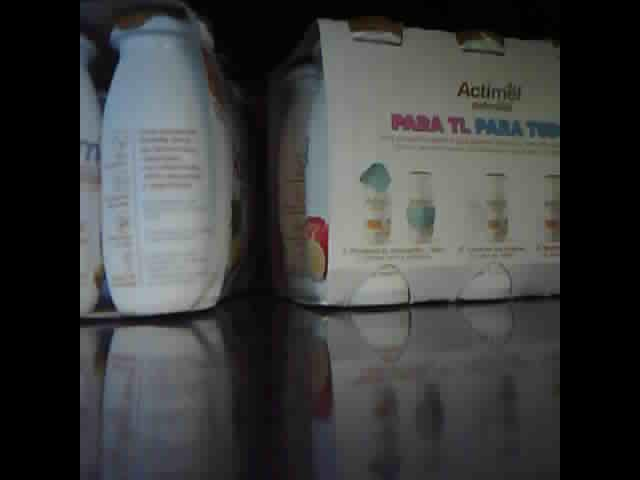actimel: (270, 15, 560, 310), (82, 1, 258, 322)
